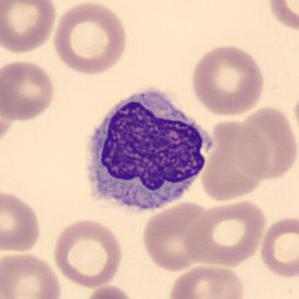Monocyte: (74, 80, 220, 222)
RBC: (204, 118, 274, 205), (50, 0, 130, 76), (188, 42, 268, 118), (184, 196, 268, 268), (140, 199, 215, 273), (51, 217, 125, 289), (232, 105, 298, 182), (1, 57, 57, 123), (0, 0, 59, 56), (0, 248, 63, 299), (166, 262, 247, 299), (0, 187, 43, 254), (257, 213, 298, 279), (264, 0, 298, 34), (81, 284, 137, 299), (291, 84, 299, 145)
